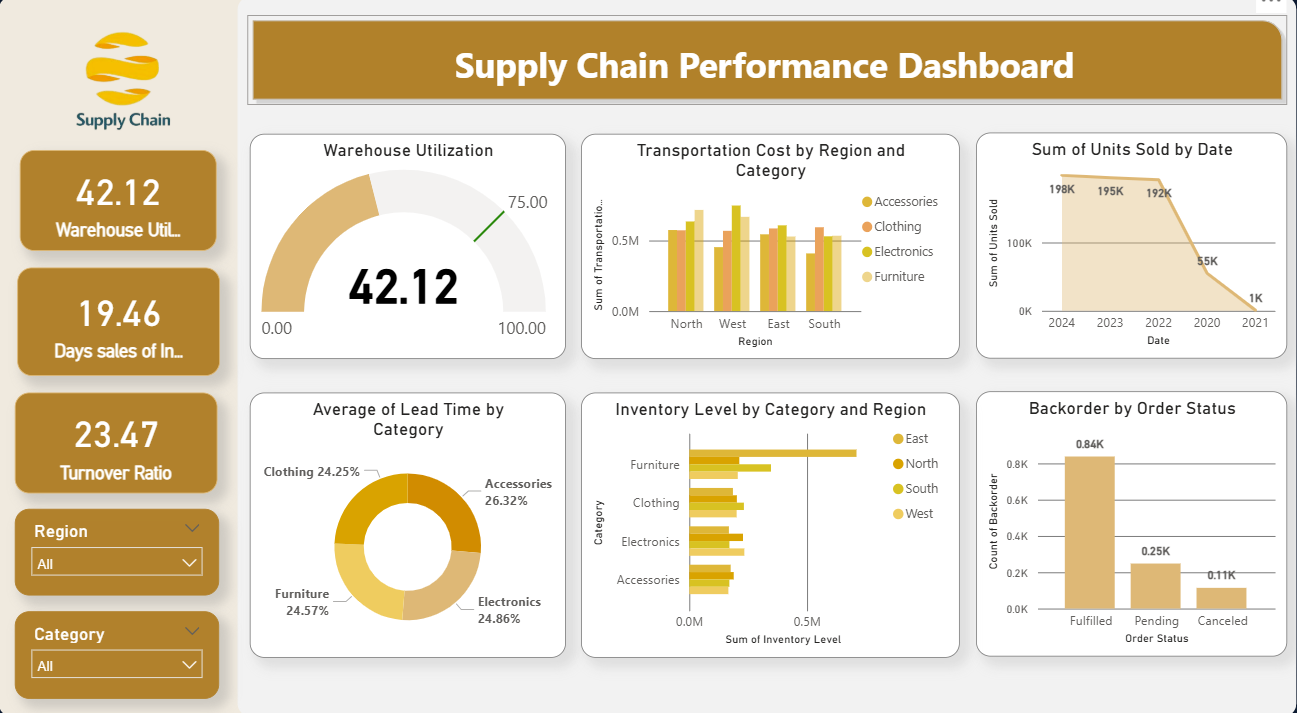

The page's visual inventory and layout, read from the dashboard file:
{"tool":"powerbi","page":{"name":"Page 1","canvas":[1280,720],"ordinal":0},"visuals":[{"type":"shape","box":[255,33.8,997.5,86.2],"z":0},{"type":"image","box":[42.9,7.1,182.9,180],"z":1000},{"type":"card","fields":{"Values":["Inventory and SupplyChain Dataset.Warehouse Utilization"]},"box":[37.5,163,189,96.7],"z":2000},{"type":"card","fields":{"Values":["Inventory and SupplyChain Dataset.Days sales of Inventory"]},"box":[34.3,275.7,194.3,104.3],"z":3000},{"type":"card","fields":{"Values":["Inventory and SupplyChain Dataset.Inventory Turnover Ratio"]},"box":[32.9,395.7,194.3,97.1],"z":4000},{"type":"slicer","fields":{"Values":["Inventory and SupplyChain Dataset.Region"]},"box":[32.9,507.1,195.7,82.9],"z":5000},{"type":"slicer","fields":{"Values":["Inventory and SupplyChain Dataset.Category"]},"box":[32.9,605.7,195.7,84.3],"z":6000},{"type":"gauge","fields":{"Y":["Inventory and SupplyChain Dataset.Warehouse Utilization"]},"box":[257.1,147.6,302.9,215.7],"z":7000},{"type":"clusteredColumnChart","title":"Transportation Cost by Region and Category","fields":{"Y":["Sum(Inventory and SupplyChain Dataset.Transportation Cost)"],"Category":["Inventory and SupplyChain Dataset.Region"],"Series":["Inventory and SupplyChain Dataset.Category"]},"box":[575.7,147.6,362.9,215.7],"z":8000},{"type":"lineChart","fields":{"Y":["Sum(Inventory and SupplyChain Dataset.Units Sold)"],"Category":["Inventory and SupplyChain Dataset.Date.2"]},"box":[954.3,146.1,298.6,217.1],"z":9000},{"type":"donutChart","fields":{"Y":["Avg(Inventory and SupplyChain Dataset.Lead Time)"],"Category":["Inventory and SupplyChain Dataset.Category"]},"box":[257.1,395.7,302.9,254.3],"z":10000},{"type":"columnChart","title":"Backorder by Order Status","fields":{"Category":["Inventory and SupplyChain Dataset.Order Status"],"Y":["CountNonNull(Inventory and SupplyChain Dataset.Backorder)"]},"box":[954.3,394.3,298.6,254.3],"z":11000},{"type":"clusteredBarChart","title":"Inventory Level by Category and Region","fields":{"Y":["Sum(Inventory and SupplyChain Dataset.Inventory Level)"],"Category":["Inventory and SupplyChain Dataset.Category"],"Series":["Inventory and SupplyChain Dataset.Region"]},"box":[575.7,395.7,362.9,254.3],"z":12000}]}

Visuals, with their boxes in screenshot pixels (x1, y1, x2, y2), scaled from the page's 1280x720 canvas onto the 1297x713 screenshot:
shape: BBox(258, 33, 1269, 119)
image: BBox(43, 7, 229, 185)
card - Inventory and SupplyChain Dataset.Warehouse Utilization: BBox(38, 161, 230, 257)
card - Inventory and SupplyChain Dataset.Days sales of Inventory: BBox(35, 273, 232, 376)
card - Inventory and SupplyChain Dataset.Inventory Turnover Ratio: BBox(33, 392, 230, 488)
slicer - Inventory and SupplyChain Dataset.Region: BBox(33, 502, 232, 584)
slicer - Inventory and SupplyChain Dataset.Category: BBox(33, 600, 232, 683)
gauge - Inventory and SupplyChain Dataset.Warehouse Utilization: BBox(261, 146, 567, 360)
"Transportation Cost by Region and Category" clusteredColumnChart: BBox(583, 146, 951, 360)
lineChart - Sum(Inventory and SupplyChain Dataset.Units Sold) x Inventory and SupplyChain Dataset.Date.2: BBox(967, 145, 1270, 360)
donutChart - Avg(Inventory and SupplyChain Dataset.Lead Time) x Inventory and SupplyChain Dataset.Category: BBox(261, 392, 567, 644)
"Backorder by Order Status" columnChart: BBox(967, 390, 1270, 642)
"Inventory Level by Category and Region" clusteredBarChart: BBox(583, 392, 951, 644)
